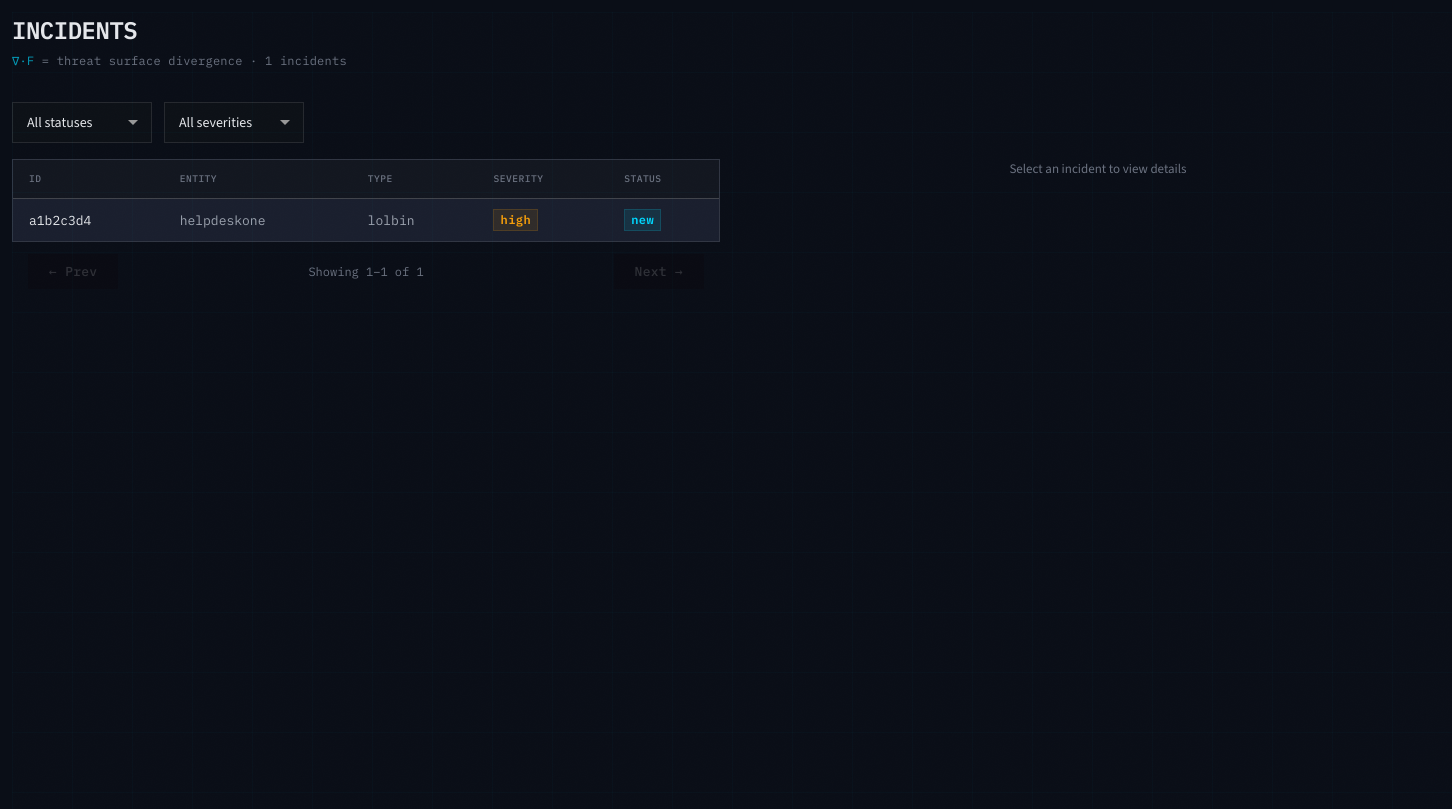
Scenario: SupervisorReportCard (Phase 3, R-1/FR-1/D-10) › round 8 (N-4/N-6) › claims without evidence carry a visible NO EVIDENCE CITED chip; heading asserts nothing
This screenshot has width=1452, height=809.
Click the text "helpdeskone" at (258, 220), box [164,199,352,241]
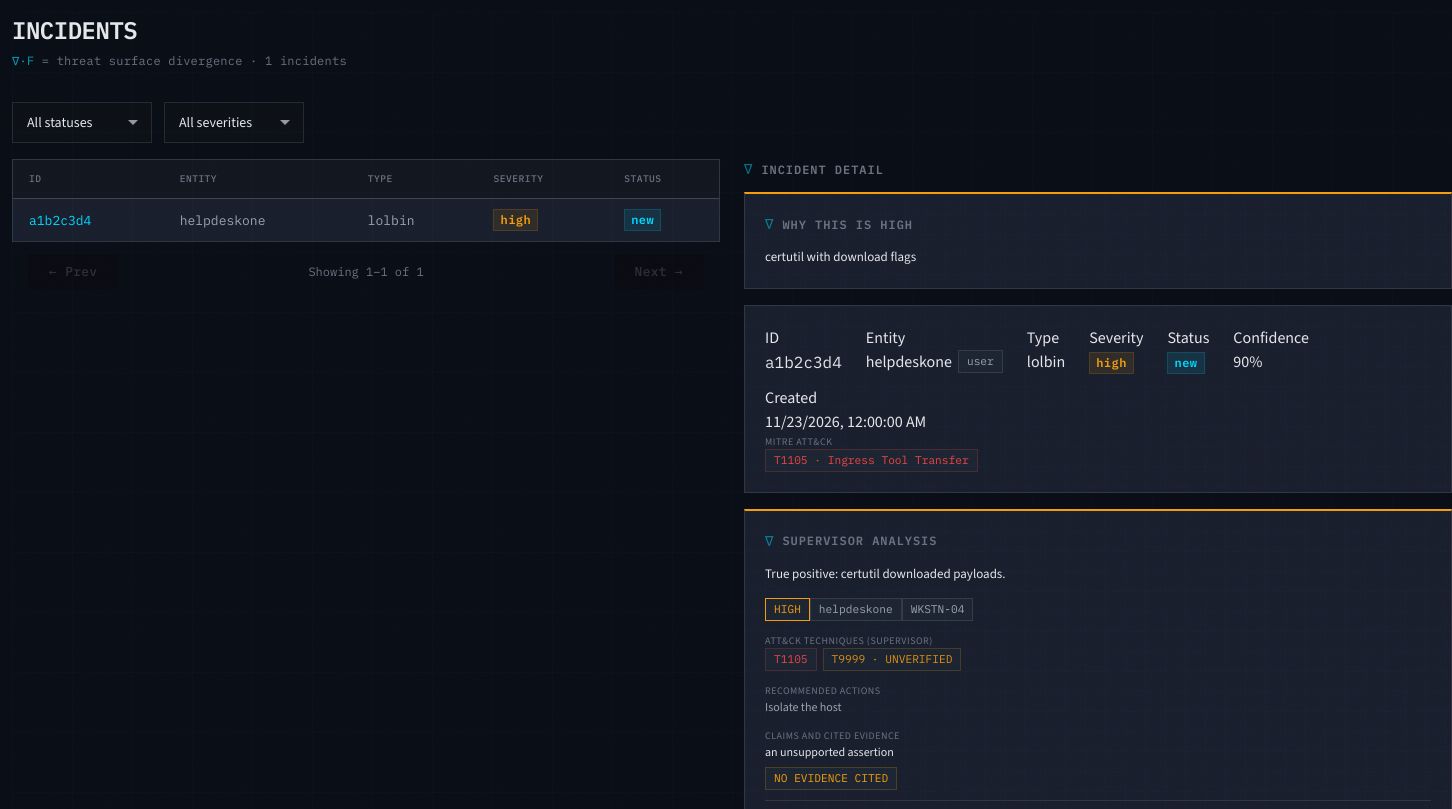
Expected: the text "SUPERVISOR ANALYSIS" is shown, [782,533,937,548]
Expected: the text "CLAIMS AND CITED EVIDENCE" is shown, [765,729,900,742]
Expected: the text "NO EVIDENCE CITED" is shown, [765,767,897,790]
